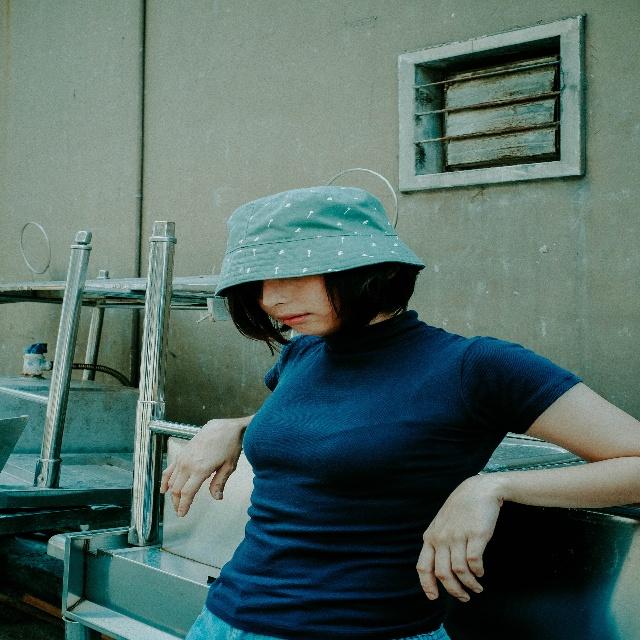Sin_guantes: (416, 467, 502, 609), (159, 412, 243, 519)
